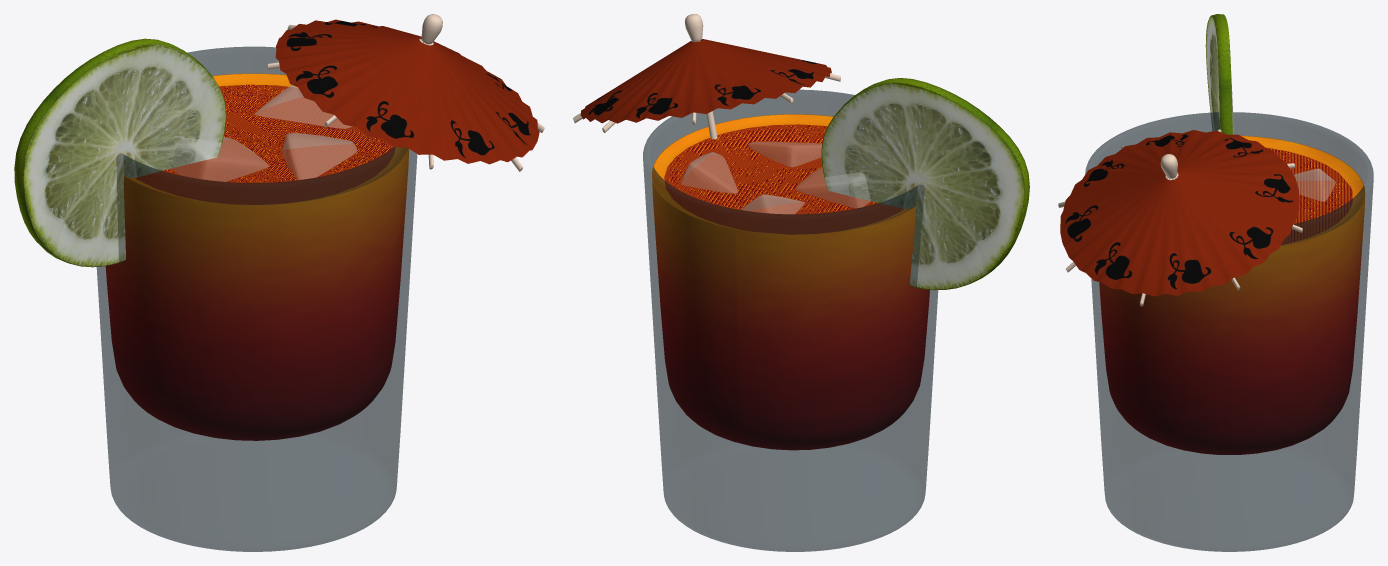
3 renders of one model, left to right at view 1: azimuth 30°, elevation 25°; view 2: azimuth 150°, elevation 25°; view 3: azimuth 270°, elevation 25°, orthographic. The views are drawn at different scales.
Parts seen in each view (by area): view 1: _3DGeom_1_Defintion, _3DGeom_2_Defintion (×4), _3DGeom_4_Defintion (×2), _3DGeom_6_Defintion, _3DGeom_3_Defintion (×3); view 2: _3DGeom_1_Defintion, _3DGeom_2_Defintion (×4), _3DGeom_4_Defintion (×2), _3DGeom_6_Defintion, _3DGeom_3_Defintion (×4); view 3: _3DGeom_1_Defintion, _3DGeom_2_Defintion (×4), _3DGeom_6_Defintion, _3DGeom_4_Defintion (×2), _3DGeom_3_Defintion.
Boxes of the visible parts, <box> form: _3DGeom_1_Defintion: <box>96,46,417,551</box>; _3DGeom_2_Defintion (×4): <box>105,73,409,440</box>; _3DGeom_4_Defintion (×2): <box>14,38,226,267</box>; _3DGeom_6_Defintion: <box>275,19,539,164</box>; _3DGeom_3_Defintion (×3): <box>171,85,356,181</box>; _3DGeom_1_Defintion: <box>643,89,938,551</box>; _3DGeom_2_Defintion (×4): <box>652,114,929,450</box>; _3DGeom_4_Defintion (×2): <box>821,78,1029,290</box>; _3DGeom_6_Defintion: <box>580,39,831,123</box>; _3DGeom_3_Defintion (×4): <box>681,141,870,213</box>; _3DGeom_1_Defintion: <box>1085,112,1373,551</box>; _3DGeom_2_Defintion (×4): <box>1099,135,1365,454</box>; _3DGeom_6_Defintion: <box>1060,130,1299,296</box>; _3DGeom_4_Defintion (×2): <box>1205,14,1232,134</box>; _3DGeom_3_Defintion: <box>1294,168,1335,201</box>.
Size of the model in its own units: 6.24 by 4.02 by 5.95.
Materials: 7 (4 with a texture image).
